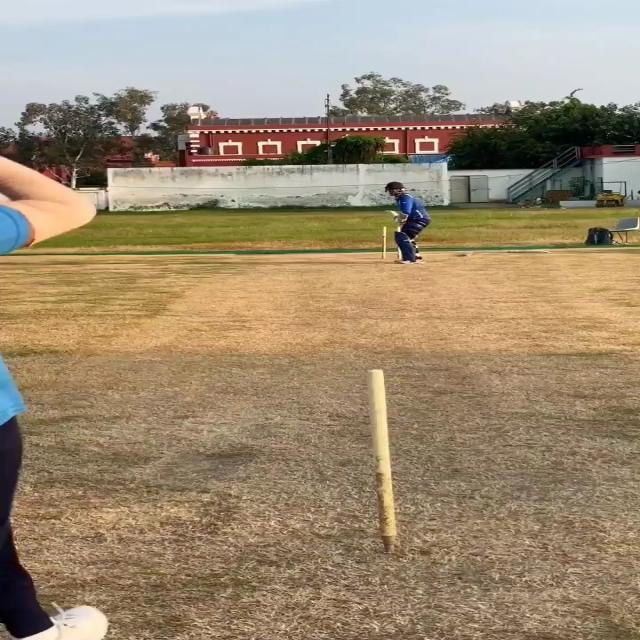stump: (337, 365, 423, 554), (382, 226, 402, 259)
